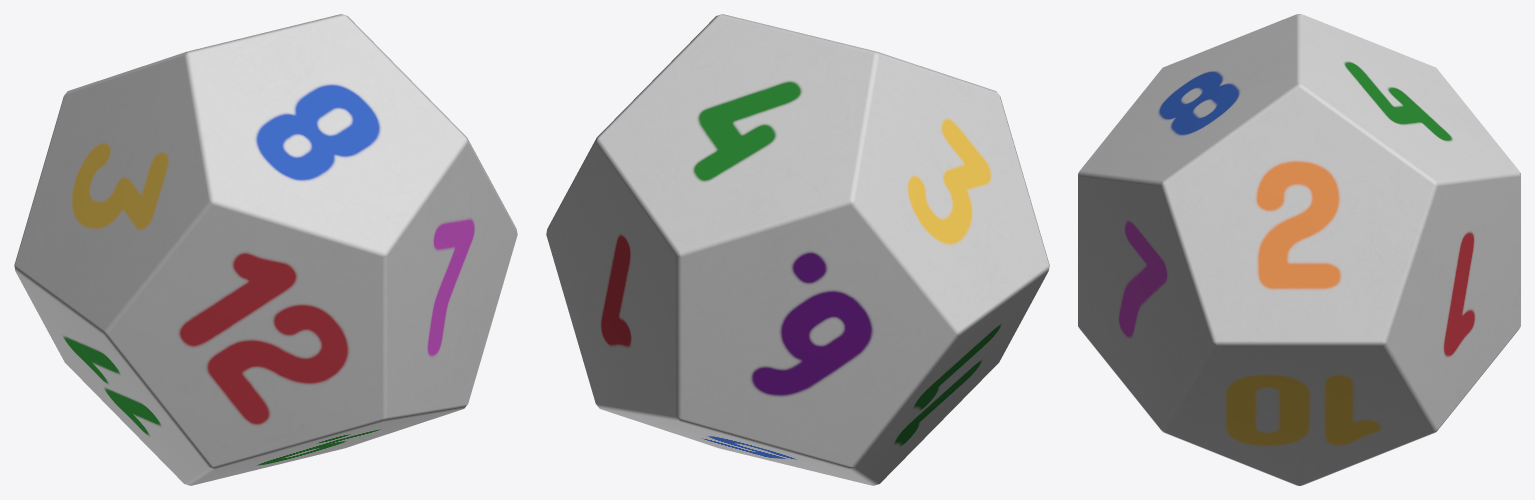
File: d12_rainbow.glb
3 renders of one model, left to right at view 1: azimuth 30°, elevation 25°; view 2: azimuth 150°, elevation 25°; view 3: azimuth 270°, elevation 25°, orthographic. The views are drawn at different scales.
Parts seen in each view (by area): view 1: Mesh_0; view 2: Mesh_0; view 3: Mesh_0.
Boxes of the visible parts, x1,y1,x2,y2 form: Mesh_0: (14, 14, 517, 485); Mesh_0: (546, 14, 1049, 485); Mesh_0: (1078, 14, 1520, 485).
Bounding box in the file's own units: 167 × 167 × 167.
Materials: 1 (1 with a texture image).
